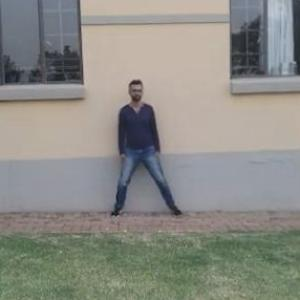follow: (118, 77, 160, 220)
